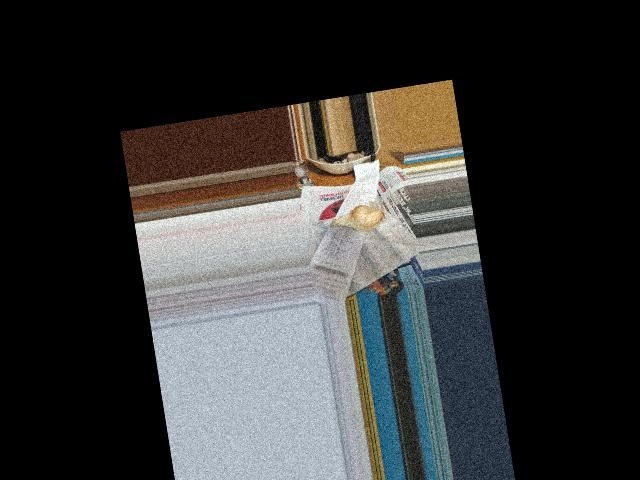onion: (337, 200, 387, 234)
